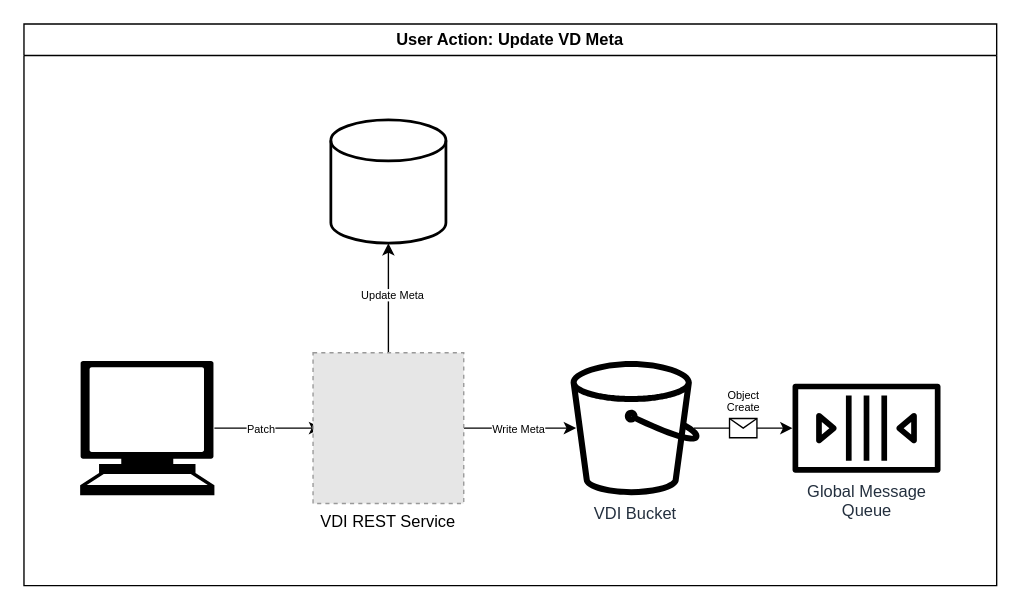
The diagram is 1021 pixels wide and 610 high, and some of its shapes have lost their labels. Grey dashed boxes stand in for pictures. The shapes that lost their labels are listed below. From the top down, each one's box as (x1, y1, x2, y2) in pixels, then its label:
(329, 118, 447, 244): VDI Cache DB
(79, 360, 214, 495): Web Client
